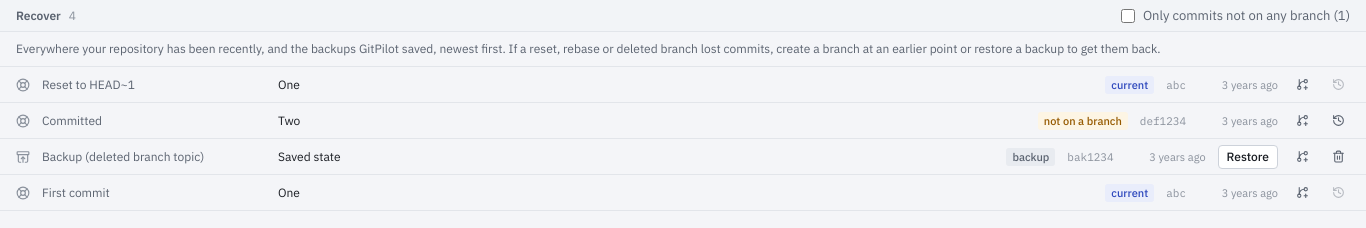
Test case: RecoverSection › lists earlier states, marks lost commits and filters to them
The image size is (1366, 228).
expect the text "Reset to HEAD~1" is shown: met, box [42,76,135,92]
expect the text "not on a branch" is shown: met, box [1038,112,1128,130]
Click the checkbox labelled "Only commits not on any branch (1)" at (1128, 16), box [1121,8,1135,22]
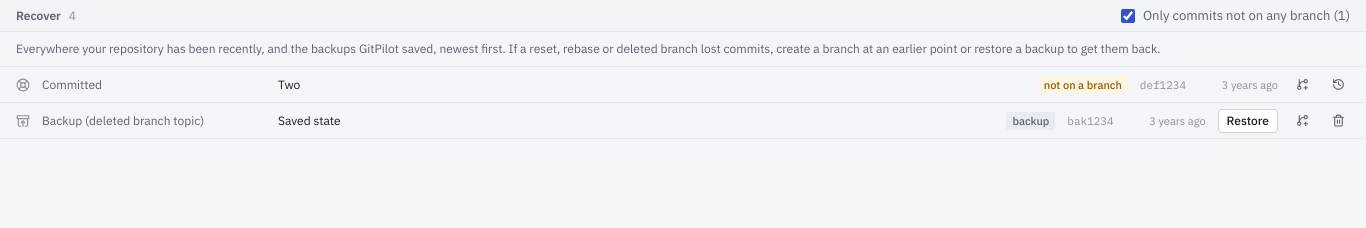
expect the text "Two" is shown: met, box [278,76,300,92]
expect the text "First commit" is gone: met
